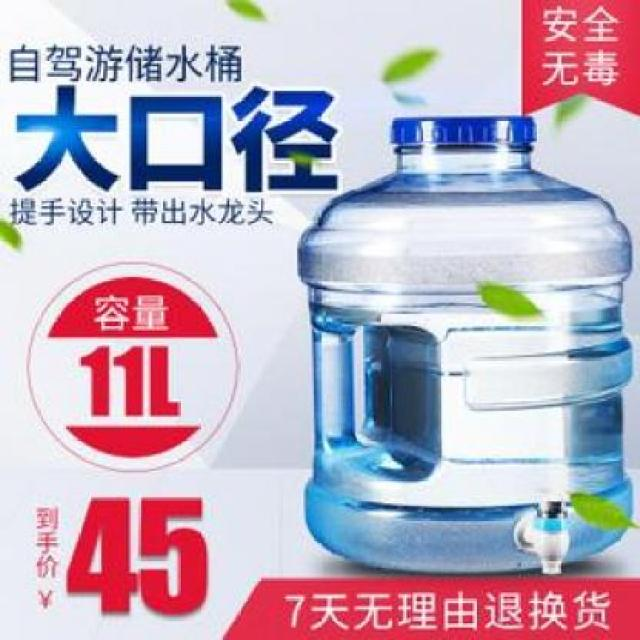coolerbottle: (292, 109, 638, 581)
